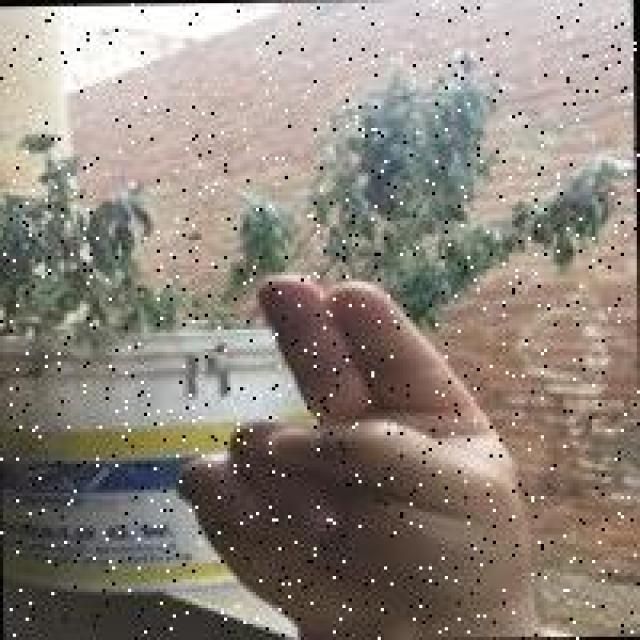U: (172, 262, 554, 637)
